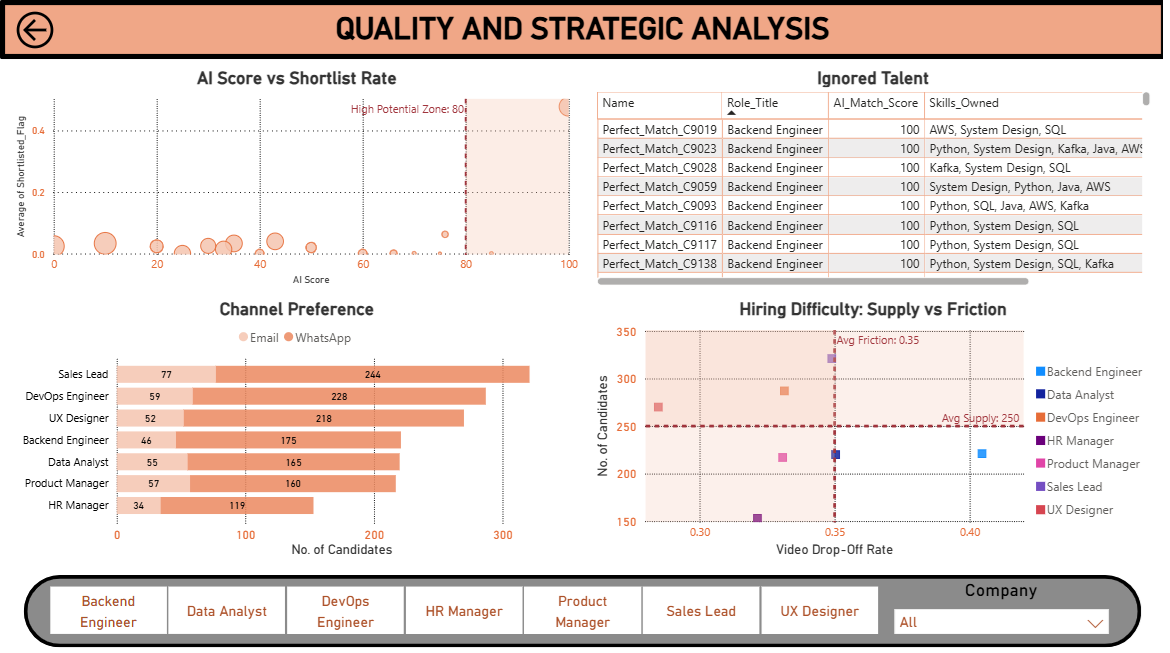

The page's visual inventory and layout, read from the dashboard file:
{"tool":"powerbi","page":{"name":"Analysis","canvas":[1280,720],"ordinal":1},"visuals":[{"type":"textbox","box":[0,0,1279.8,65],"z":0},{"type":"scatterChart","title":"AI Score vs Shortlist Rate","fields":{"X":["AI_Log_v3_FINAL.AI_Match_Score"],"Y":["Avg(AI_Log_v3_FINAL.Shortlisted_Flag)"],"Size":["CountNonNull(AI_Log_v3_FINAL.Candidate_ID)"]},"box":[12.3,74.1,627.1,244.3],"z":1000},{"type":"tableEx","title":"Ignored Talent","fields":{"Values":["Candidates_Master_v3_FINAL.Name","Jobs_Master_v3.Role_Title","AI_Log_v3_FINAL.AI_Match_Score","Candidates_Master_v3_FINAL.Skills_Owned"]},"box":[649.1,74.1,618.9,244.3],"z":2000},{"type":"barChart","title":"Channel Preference","fields":{"Category":["Jobs_Master_v3.Role_Title"],"Series":["Candidates_Master_v3_FINAL.Preferred_Communication"],"Y":["CountNonNull(AI_Log_v3_FINAL.Candidate_ID)"]},"box":[12.3,328,627.1,288.2],"z":3000},{"type":"scatterChart","title":"Hiring Difficulty: Supply vs Friction ","fields":{"Series":["Jobs_Master_v3.Role_Title"],"X":["AI_Log_v3_FINAL.Video Dropoff %"],"Y":["CountNonNull(AI_Log_v3_FINAL.Candidate_ID)"]},"box":[649.1,328,618.9,288.2],"z":4000},{"type":"shape","box":[26.1,631.2,1226.8,79.6],"z":5000},{"type":"slicer","fields":{"Values":["Jobs_Master_v3.Role_Title"]},"box":[28.8,636.7,959.2,59],"z":6000},{"type":"slicer","title":"Company","fields":{"Values":["Jobs_Master_v3.Company_ID"]},"box":[971.5,636.7,255.2,59],"z":7000},{"type":"actionButton","box":[12.3,6.9,56.3,52.1],"z":8000}]}

Visuals, with their boxes in screenshot pixels (x1, y1, x2, y2), scaled from the page's 1280x720 canvas onto the 1170x653 screenshot:
textbox: rect(0, 0, 1169, 59)
"AI Score vs Shortlist Rate" scatterChart: rect(11, 67, 584, 289)
"Ignored Talent" tableEx: rect(593, 67, 1159, 289)
"Channel Preference" barChart: rect(11, 297, 584, 559)
"Hiring Difficulty: Supply vs Friction " scatterChart: rect(593, 297, 1159, 559)
shape: rect(24, 572, 1145, 645)
slicer - Jobs_Master_v3.Role_Title: rect(26, 577, 903, 631)
"Company" slicer: rect(888, 577, 1121, 631)
actionButton: rect(11, 6, 63, 54)
